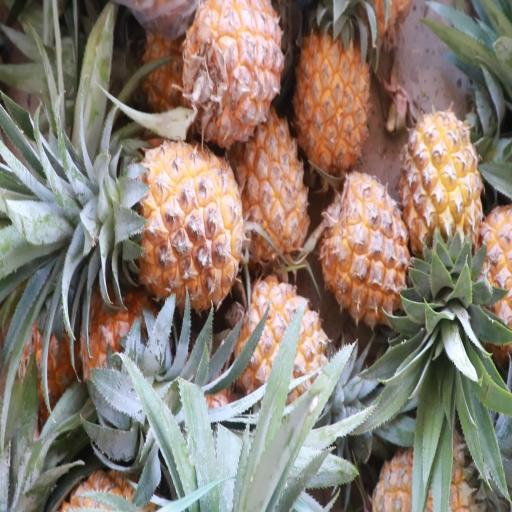Pineapple - v8 v1: (76, 138, 246, 316), (230, 268, 343, 437), (397, 103, 485, 300), (180, 0, 288, 154), (320, 167, 415, 337), (290, 2, 373, 186)
